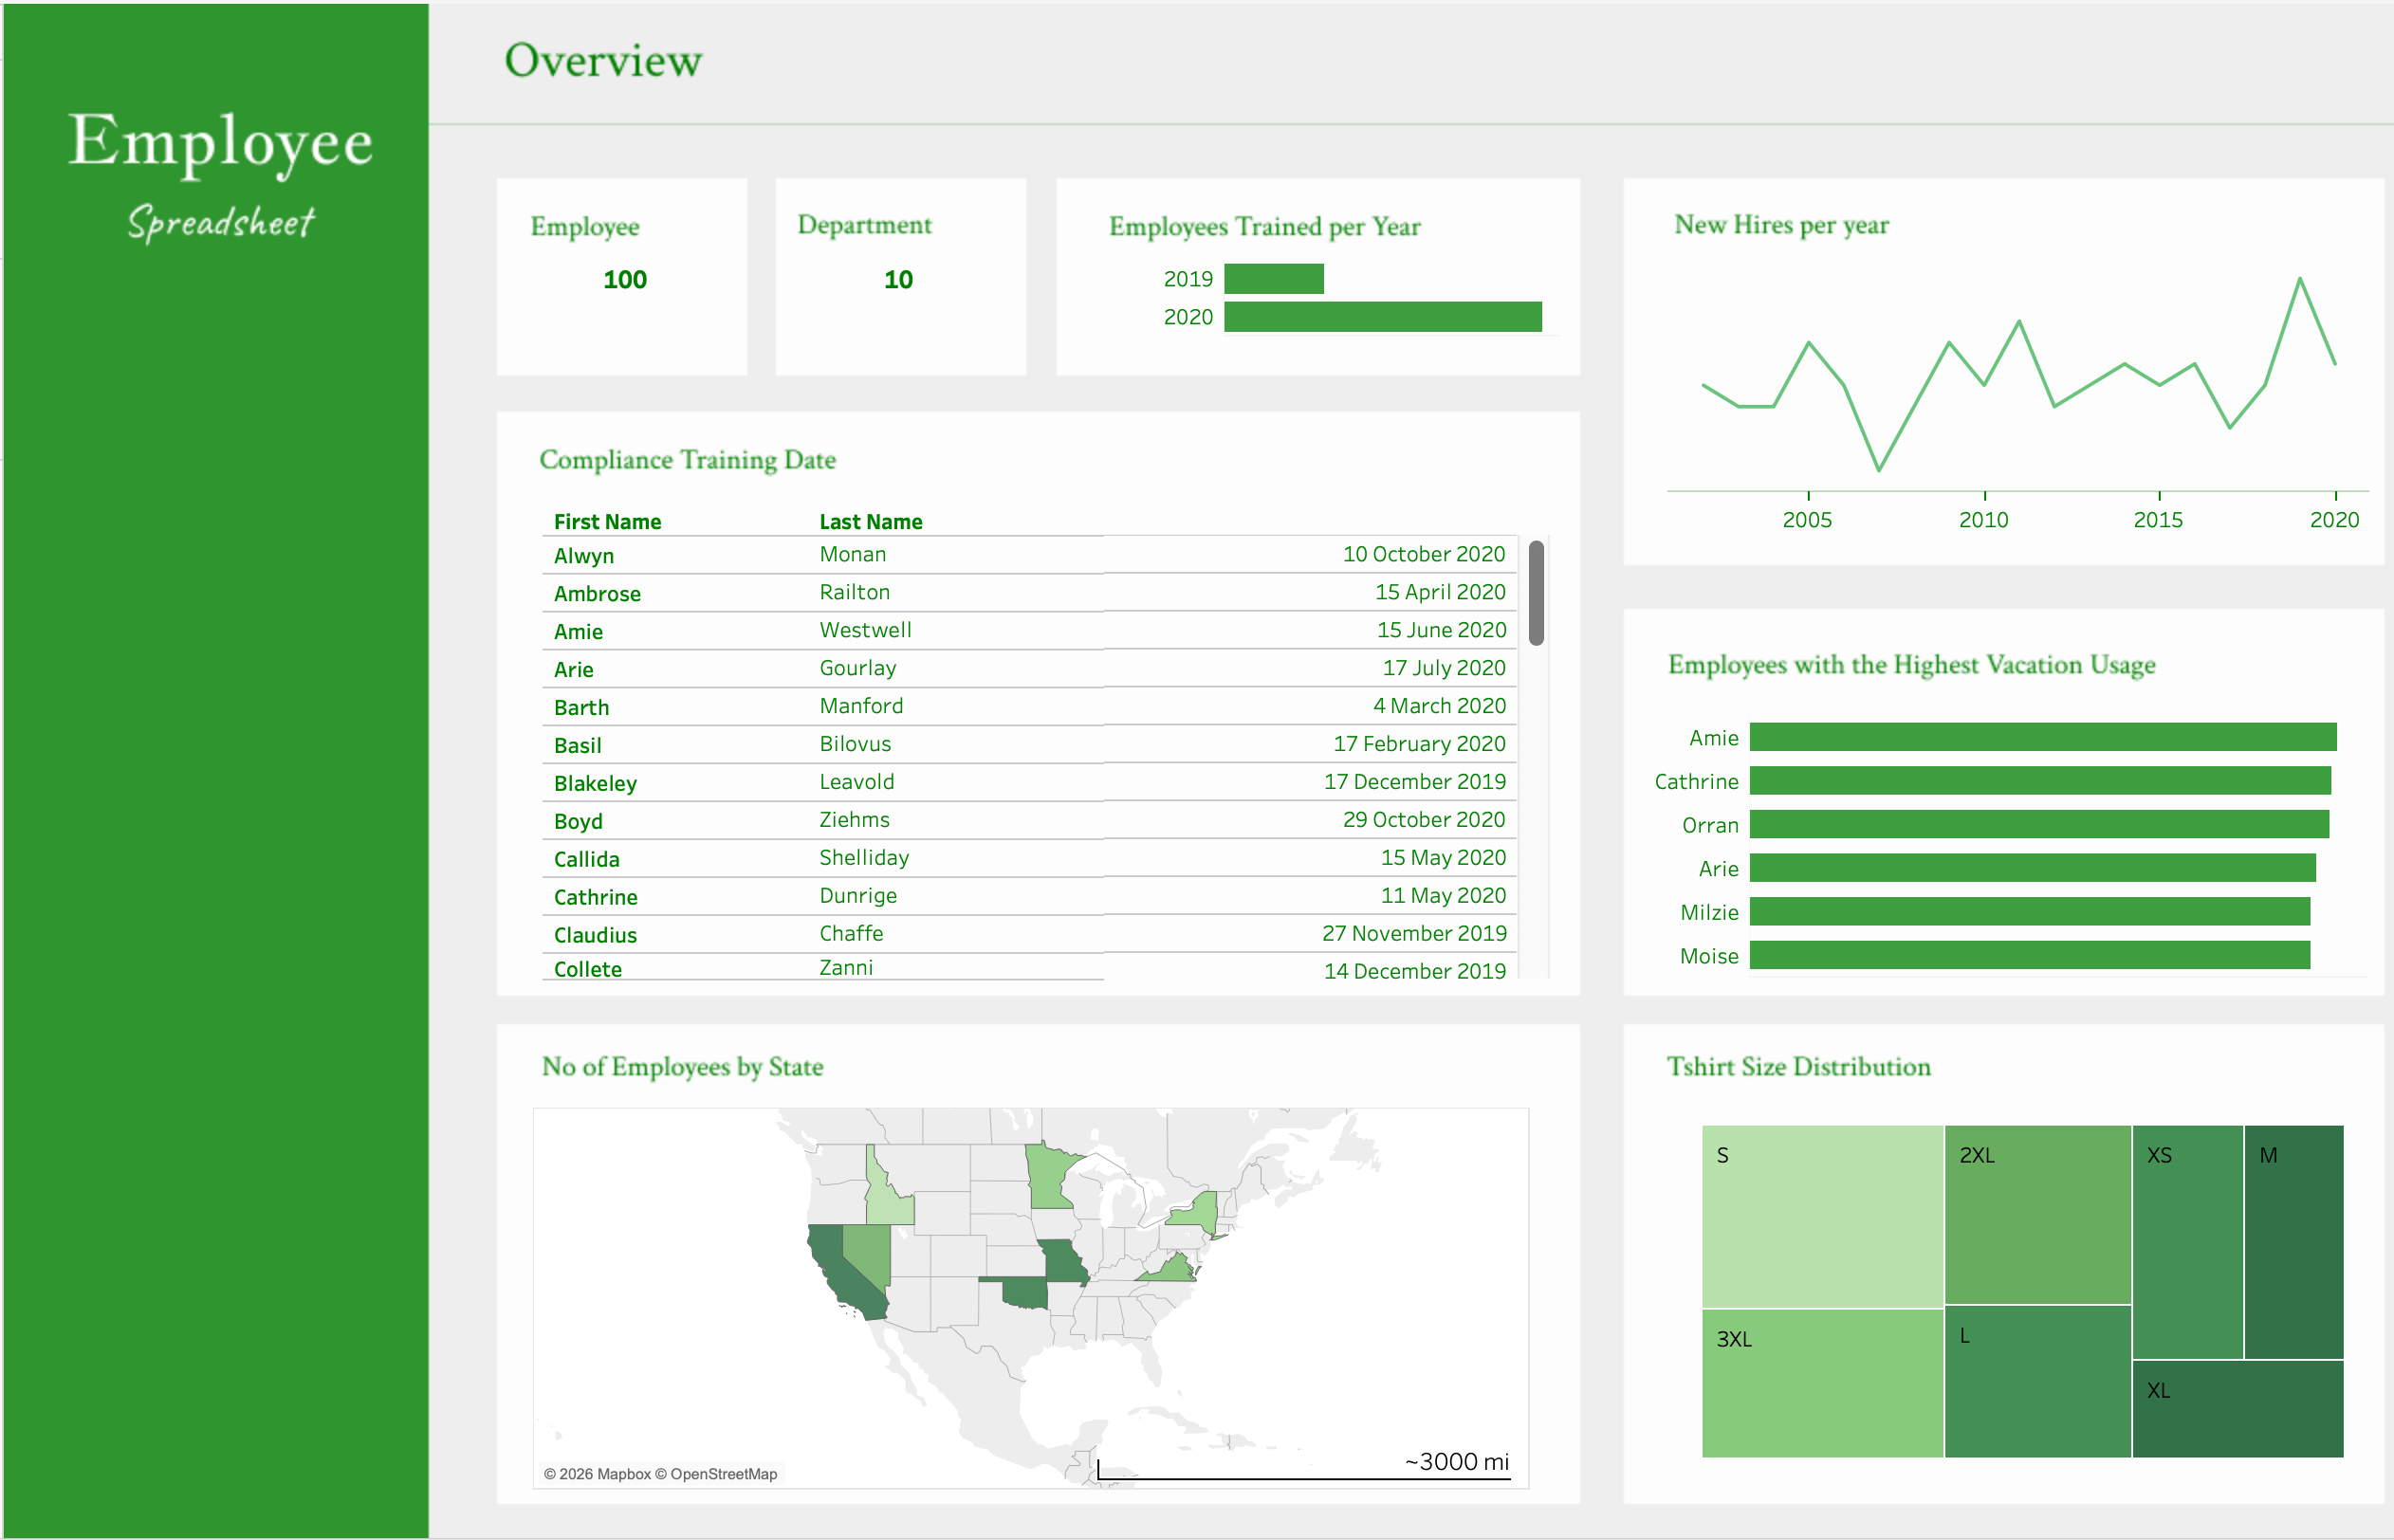

The dashboard page shown, as its layout file describes it:
{"tool":"tableau","page":{"name":"Employee Spreadsheet","canvas":[1300,880],"ordinal":0},"visuals":[{"type":"image","param":"Image/Employee Spreadsheet.png","box":[0,0,1300,880]},{"type":"worksheet","title":"Department","mark":"Automatic","box":[410,143,126,100]},{"type":"worksheet","title":"Employee","mark":"Automatic","box":[263,145,131,96]},{"type":"worksheet","title":"Employee start day","mark":"Automatic","rows":["Employees_862689C2216447D6867537C8203FBF5E"],"cols":["start_date"],"box":[877,181,370,154]},{"type":"worksheet","title":"Complaince training trend","mark":"Bar","rows":["date_complete"],"cols":["ComplianceTraining_8C610F06162544F687DB758A9F159524"],"box":[563,183,258,90]},{"type":"worksheet","title":"Employee who have been trained","mark":"Automatic","rows":["first_name","last_name"],"box":[284,308,532,255]},{"type":"worksheet","title":"top 10 Employeee vacation","mark":"Automatic","rows":["first_name"],"cols":["vacation_taken"],"box":[864,423,382,140]},{"type":"worksheet","title":"No of employee in each department","mark":"Automatic","box":[279,630,526,202]},{"type":"worksheet","title":"Employee tshirt size","mark":"Automatic","box":[891,635,351,184]}]}

Visuals, with their boxes on the page's 1300x880 design canvas (x1, y1, x2, y2). These are canvas units, not pixel positions in the 2394x1540 screenshot, which may show the page scaled, cropped or inside an application window:
image: x1=0, y1=0, x2=1300, y2=880
"Department" worksheet: x1=410, y1=143, x2=536, y2=243
"Employee" worksheet: x1=263, y1=145, x2=394, y2=241
"Employee start day" worksheet: x1=877, y1=181, x2=1247, y2=335
"Complaince training trend" worksheet (Bar marks): x1=563, y1=183, x2=821, y2=273
"Employee who have been trained" worksheet: x1=284, y1=308, x2=816, y2=563
"top 10 Employeee vacation" worksheet: x1=864, y1=423, x2=1246, y2=563
"No of employee in each department" worksheet: x1=279, y1=630, x2=805, y2=832
"Employee tshirt size" worksheet: x1=891, y1=635, x2=1242, y2=819
